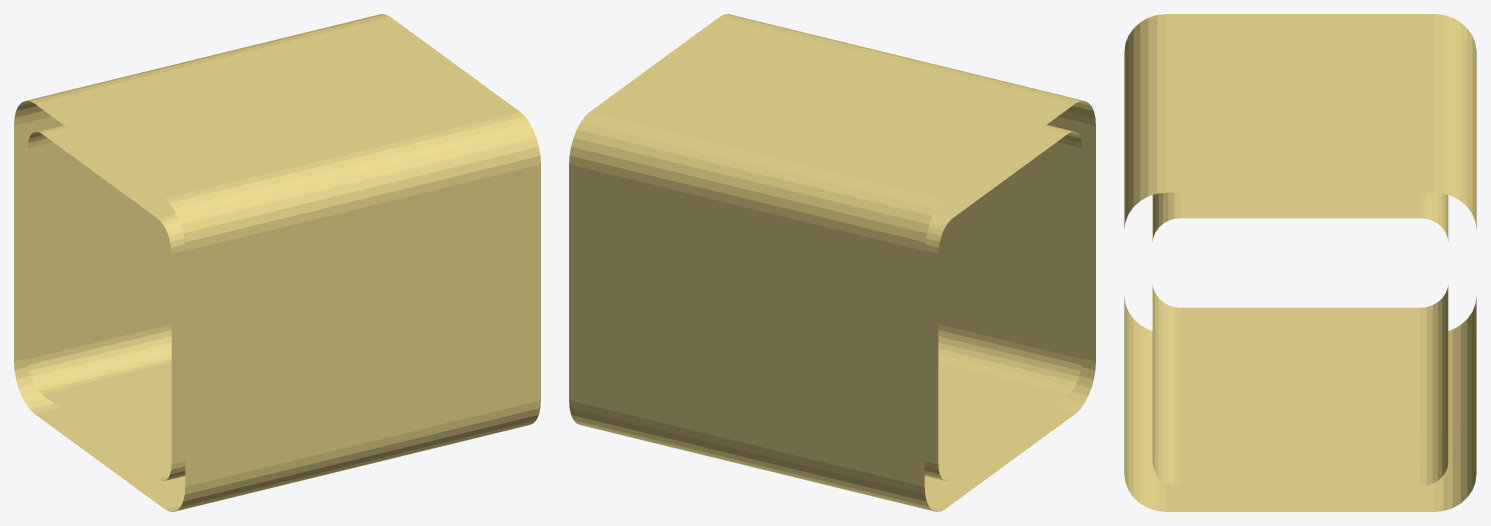
File: RailRight_03.obj
3 renders of one model, left to right at view 1: azimuth 30°, elevation 25°; view 2: azimuth 150°, elevation 25°; view 3: azimuth 270°, elevation 25°, orthographic. The views are drawn at different scales.
Visible parts, largest first — view 1: RailRight_03_15; view 2: RailRight_03_15; view 3: RailRight_03_15.
Boxes of the visible parts, x1=… form: RailRight_03_15: x1=14, y1=14, x2=540, y2=511; RailRight_03_15: x1=569, y1=14, x2=1095, y2=511; RailRight_03_15: x1=1124, y1=14, x2=1476, y2=511.
Bounding box in the file's own units: 0.03 × 0.025 × 0.025.
